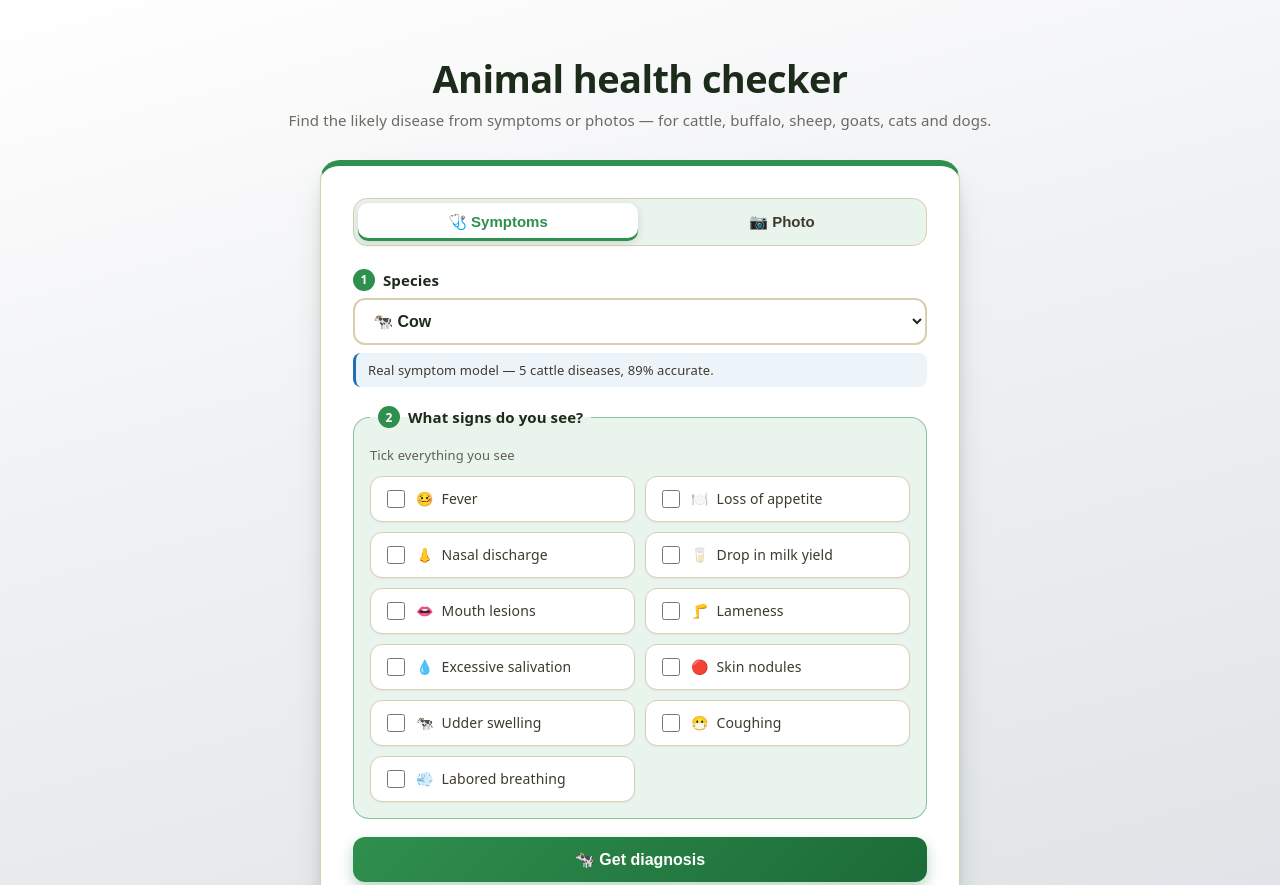
DiagnosisIntake › asks for no animal tag number or farm ID
Click the checkbox labelled "🤒 Fever" at [396, 499], box left=387, top=490, right=405, bottom=508
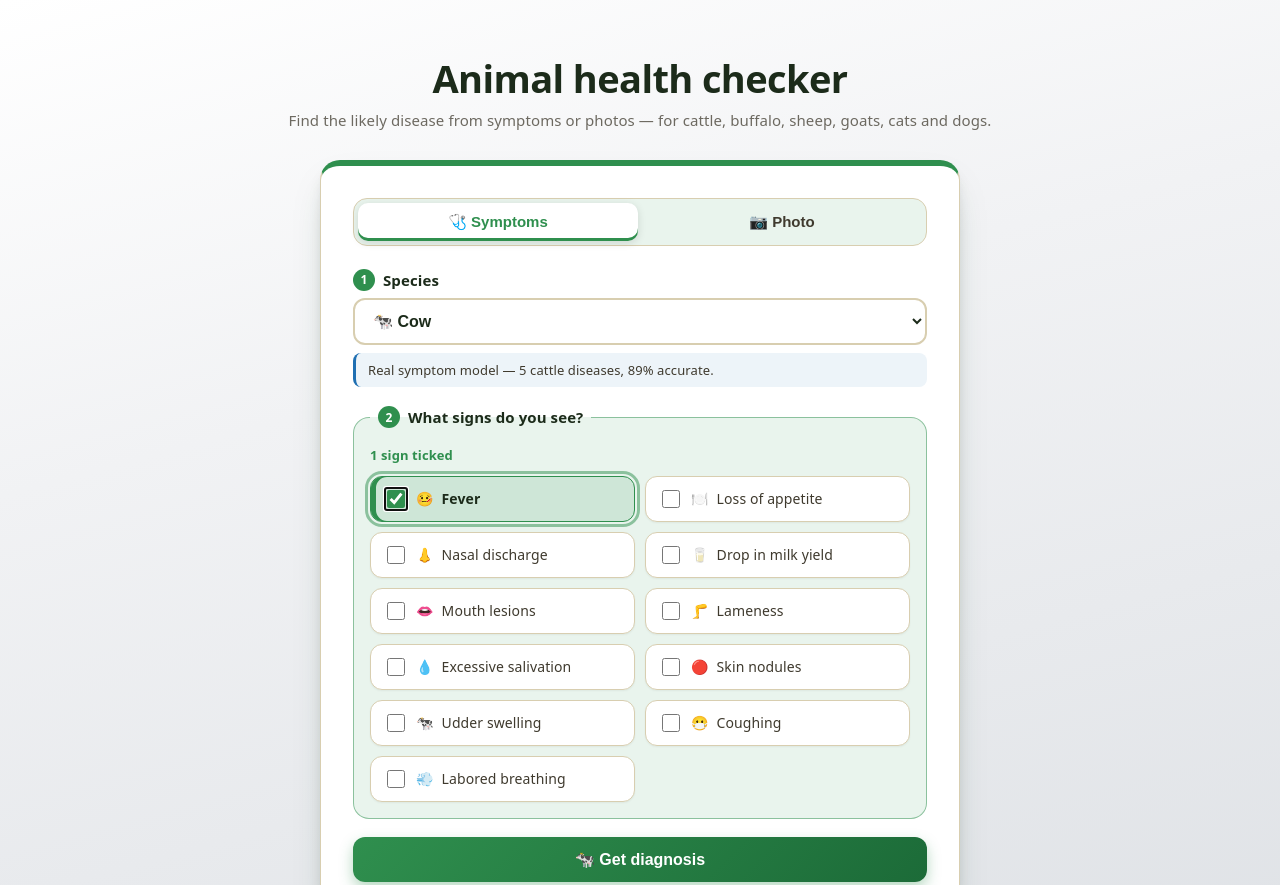
Click the button "🐄 Get diagnosis" at [640, 860], box left=353, top=837, right=927, bottom=882
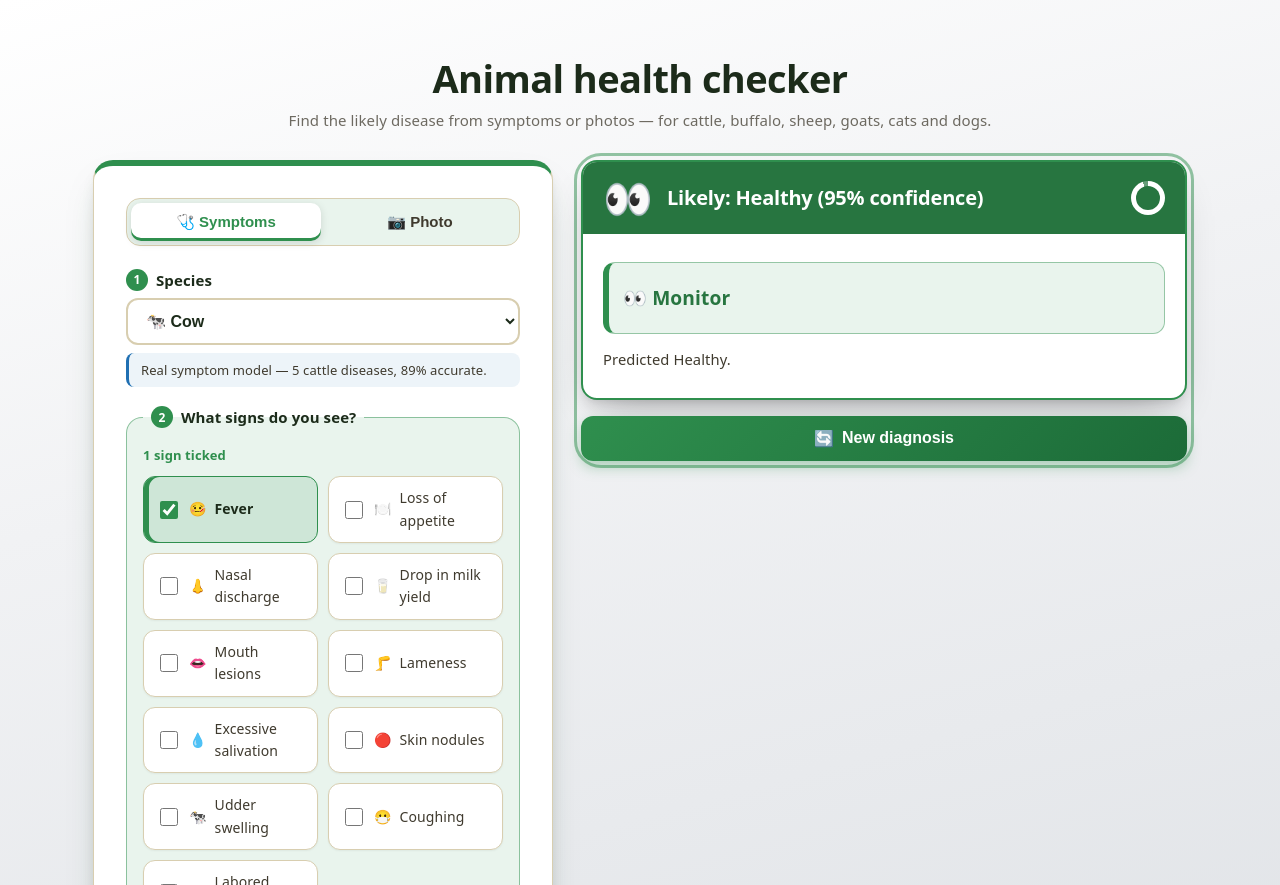
expect the heading "Likely: Healthy (95% confidence)" is shown: met, box left=667, top=185, right=983, bottom=211
